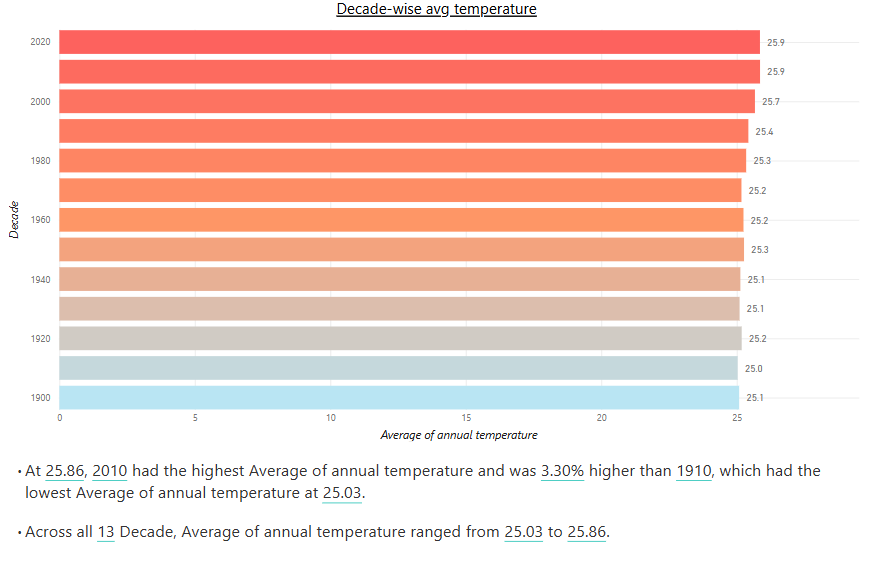

The dashboard page shown, as its layout file describes it:
{"tool":"powerbi","page":{"name":"Page 2","canvas":[1280,720],"ordinal":1},"visuals":[{"type":"barChart","title":"Decade-wise avg temperature","fields":{"Category":["climate_cleaned.Decade"],"Y":["Avg(climate_cleaned.ANNUAL_MEAN)"]},"box":[10,0,987.1,511.4],"z":0},{"type":"textbox","box":[10,521.4,987.1,198.6],"z":1000}]}

Visuals, with their boxes on the page's 1280x720 design canvas (x1, y1, x2, y2). These are canvas units, not pixel positions in the 876x573 screenshot, which may show the page scaled, cropped or inside an application window:
"Decade-wise avg temperature" barChart: pyautogui.locateOnScreen(10, 0, 997, 511)
textbox: pyautogui.locateOnScreen(10, 521, 997, 720)
